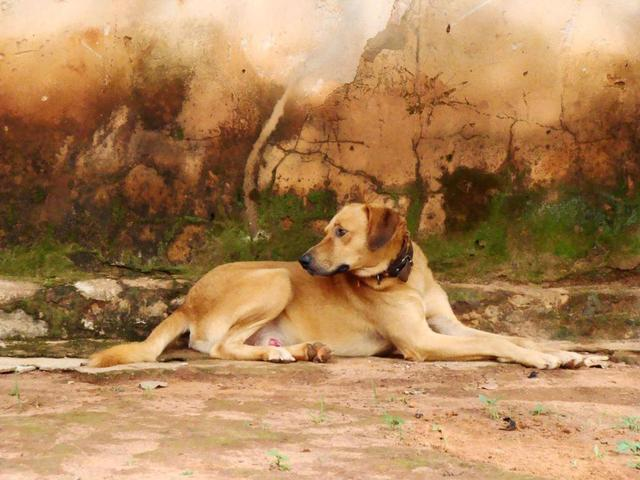dog: (103, 201, 583, 370)
